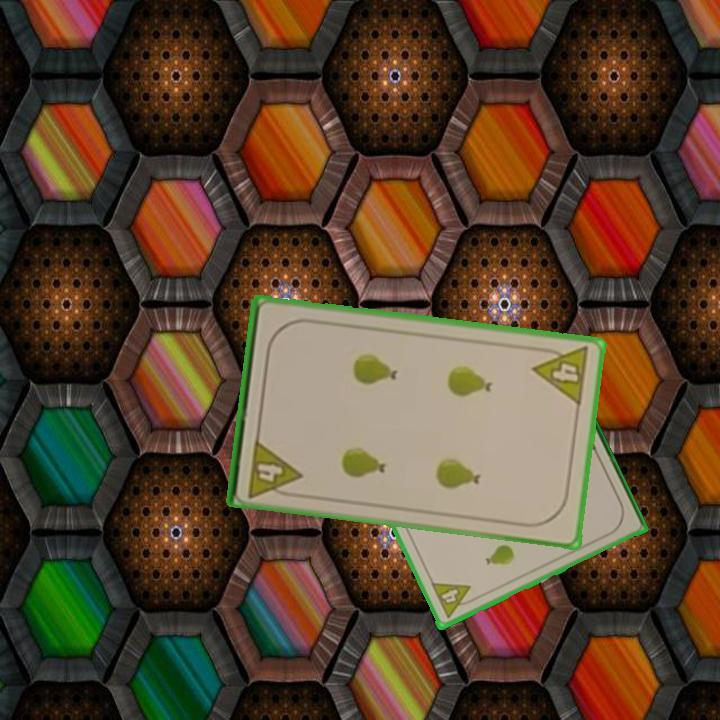4p: (529, 342, 592, 409), (244, 435, 304, 501), (428, 579, 478, 622)
